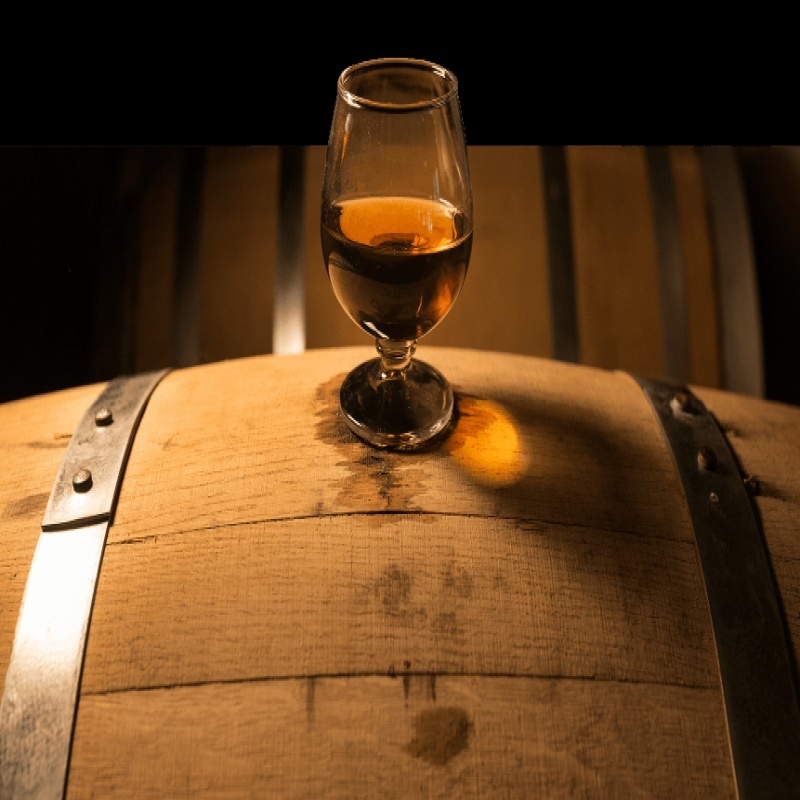whiskey: (319, 49, 477, 442)
